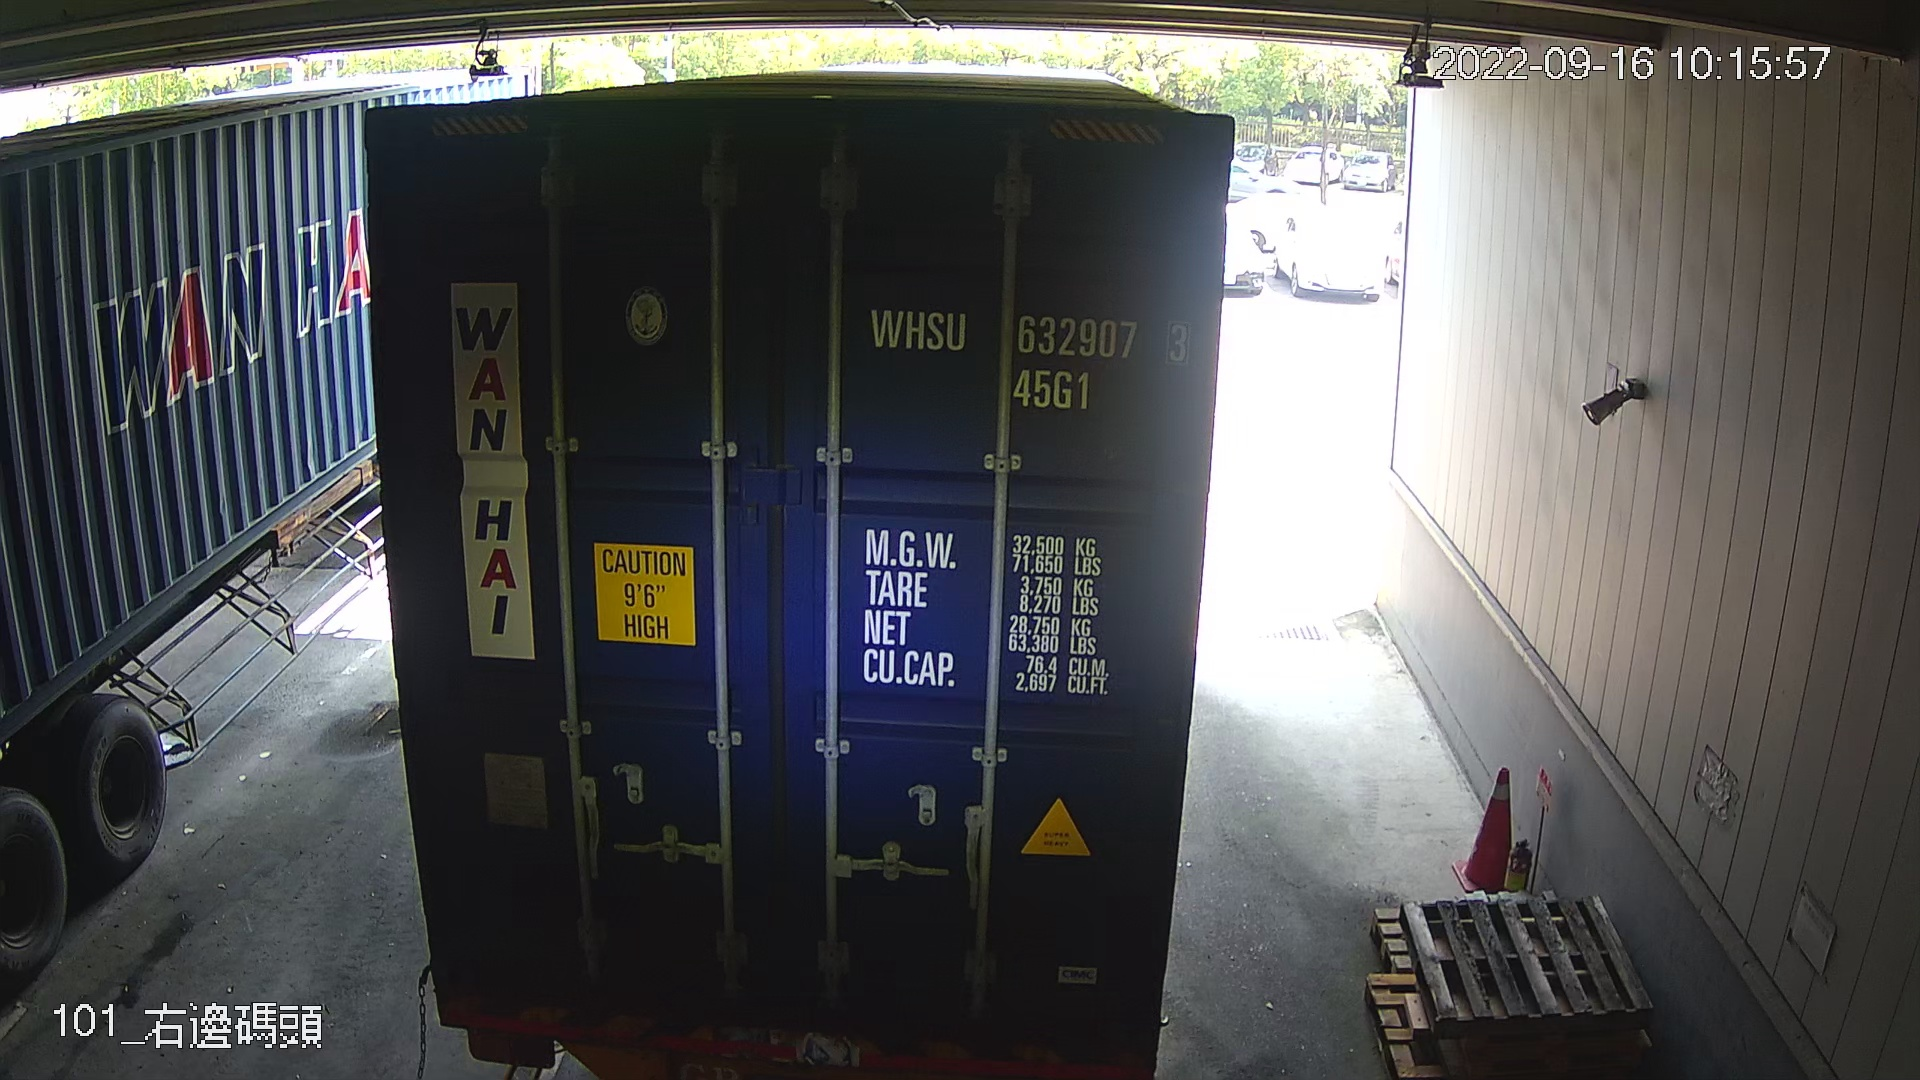container: (857, 294, 1200, 413)
